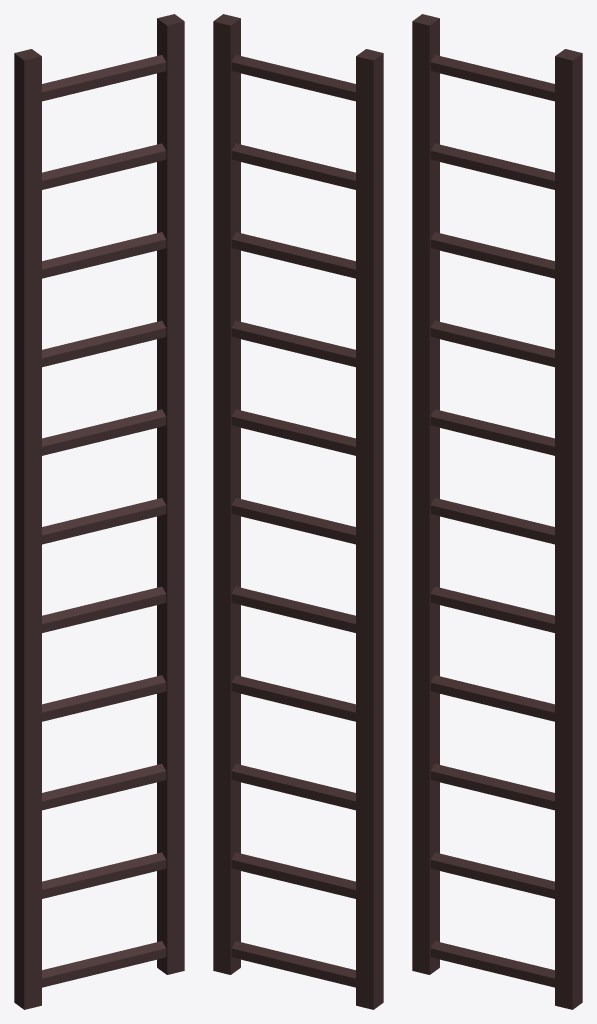
File: Ladder.fbx
3 renders of one model, left to right at view 1: azimuth 30°, elevation 25°; view 2: azimuth 150°, elevation 25°; view 3: azimuth 330°, elevation 25°, orthographic.
Parts seen in each view (by area): view 1: Ladder; view 2: Ladder; view 3: Ladder.
Boxes of the visible parts, x1,y1,x2,y2 form: Ladder: (14,14,184,1009); Ladder: (213,14,383,1009); Ladder: (412,14,582,1009).
Bounding box in the file's own units: 1.9 × 10.71 × 0.208.
